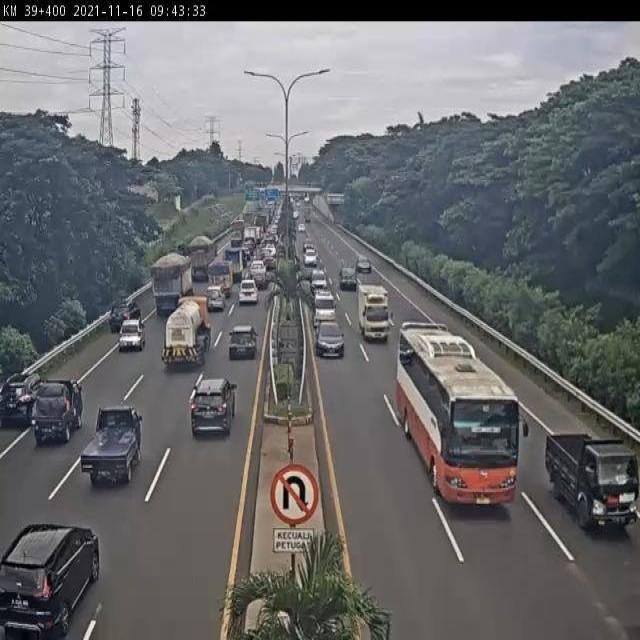Bus: (396, 321, 530, 513)
Car: (0, 525, 100, 640), (190, 378, 238, 436), (0, 371, 41, 425), (315, 322, 345, 360), (110, 298, 140, 334), (228, 326, 258, 361), (118, 317, 146, 352), (206, 285, 226, 312), (238, 278, 258, 305), (339, 266, 357, 291), (253, 272, 276, 290), (310, 268, 326, 291), (248, 259, 267, 275), (356, 256, 372, 274), (303, 248, 317, 267), (262, 252, 276, 271), (192, 266, 208, 282), (229, 230, 242, 245), (302, 238, 314, 250), (298, 223, 306, 234), (305, 212, 311, 222), (293, 210, 299, 220)
Truck: (545, 429, 640, 531), (80, 405, 144, 486), (160, 294, 212, 366), (30, 379, 84, 444), (152, 250, 194, 314), (356, 285, 394, 344), (187, 234, 218, 276), (210, 260, 234, 301), (224, 245, 246, 282), (242, 210, 255, 227), (244, 226, 256, 242), (232, 220, 245, 231)
Van: (313, 289, 338, 327)
